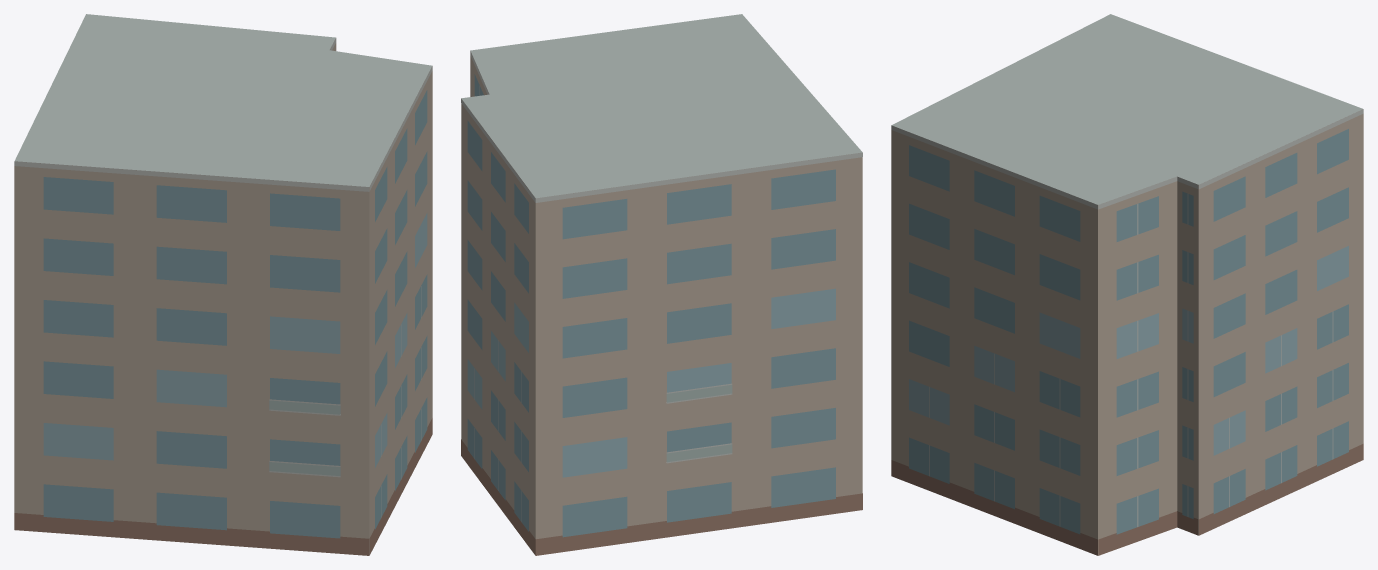
File: survey-upis-32747441.glb
3 renders of one model, left to right at view 1: azimuth 30°, elevation 25°; view 2: azimuth 150°, elevation 25°; view 3: azimuth 270°, elevation 25°, orthographic. The views are drawn at different scales.
Visible parts, largest first — view 1: survey-upis-32747441.tmp; view 2: survey-upis-32747441.tmp; view 3: survey-upis-32747441.tmp.
Boxes of the visible parts, <box> form: survey-upis-32747441.tmp: <box>14,14,432,555</box>; survey-upis-32747441.tmp: <box>461,14,862,555</box>; survey-upis-32747441.tmp: <box>891,14,1363,555</box>.
Bounding box in the file's own units: 21.72 × 18.6 × 22.69.
